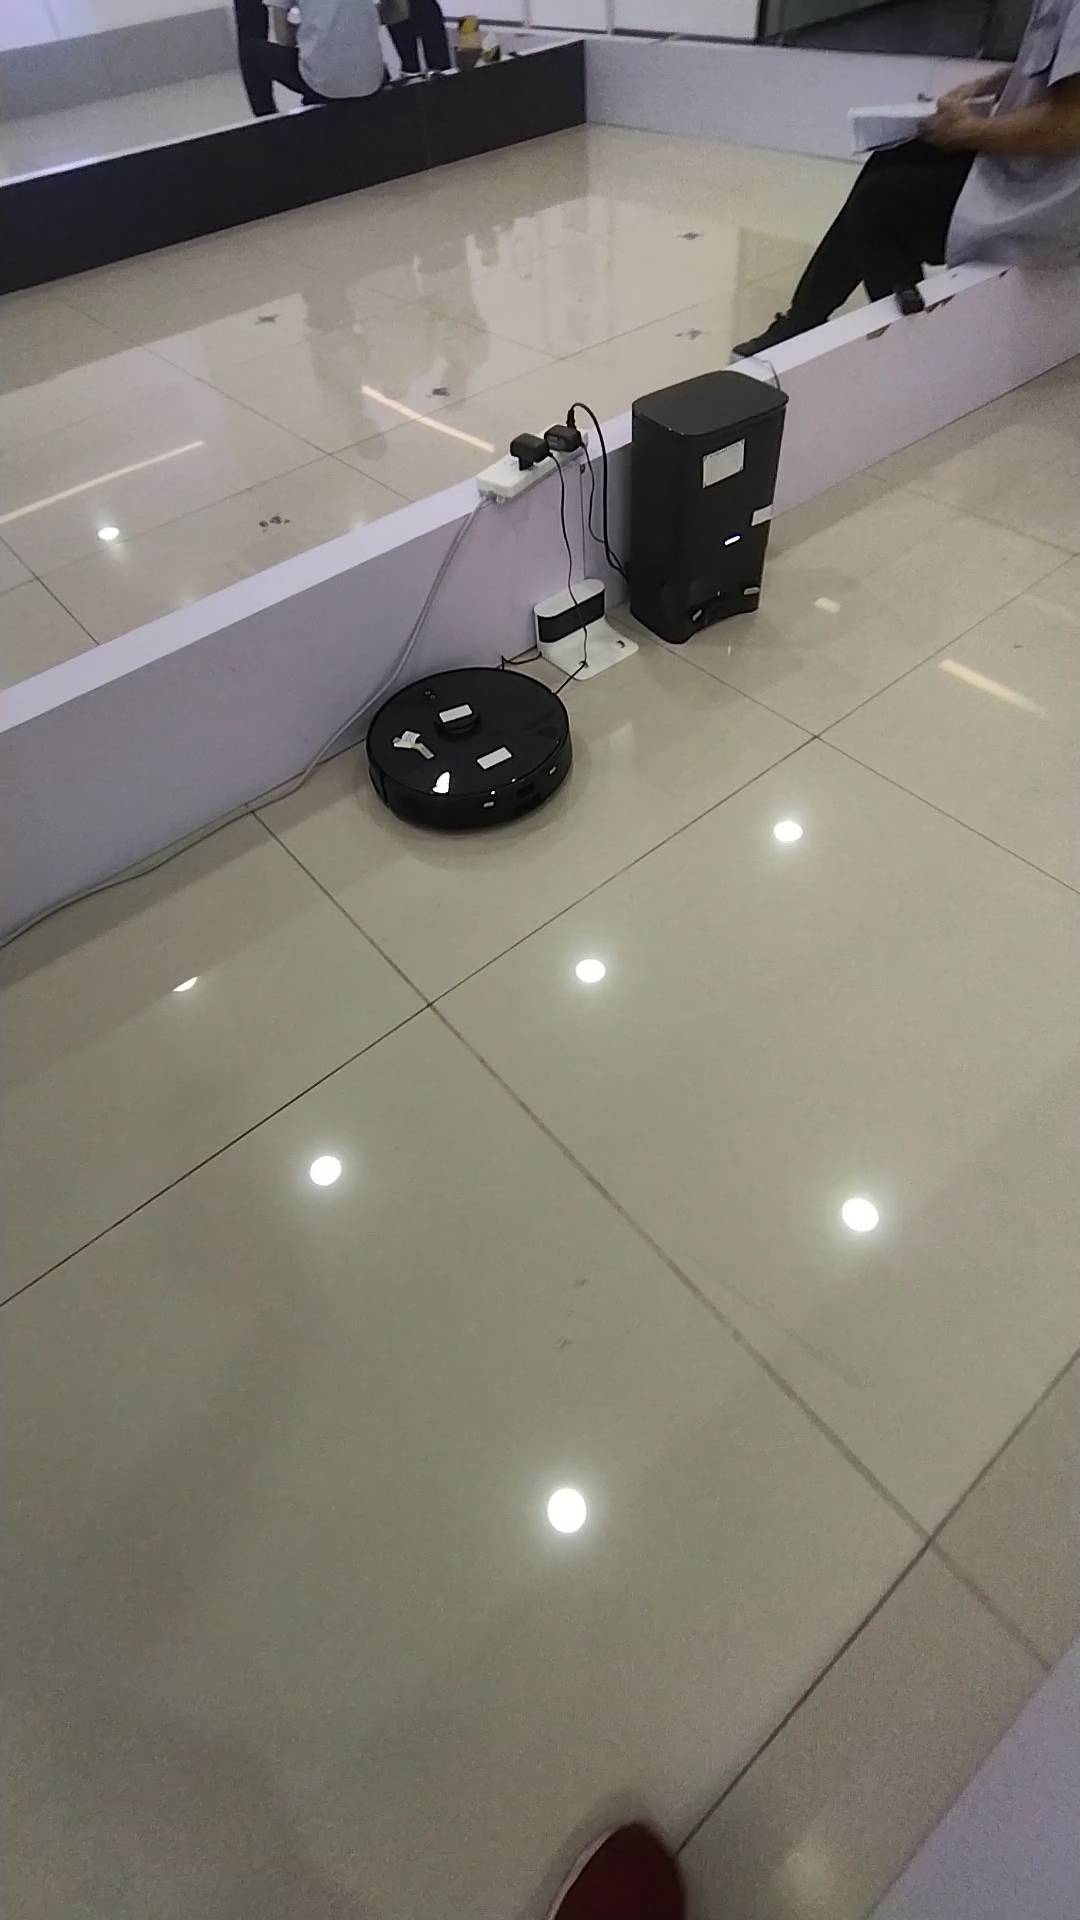dust collecting barrel: (629, 371, 796, 645)
recharge seat: (533, 578, 637, 682)
